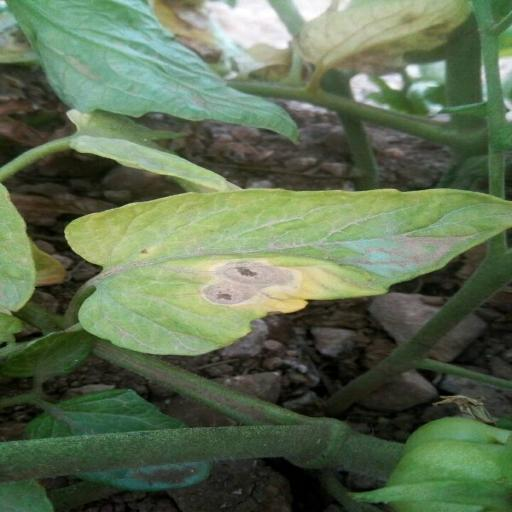Early Blight: (66, 186, 512, 356)
